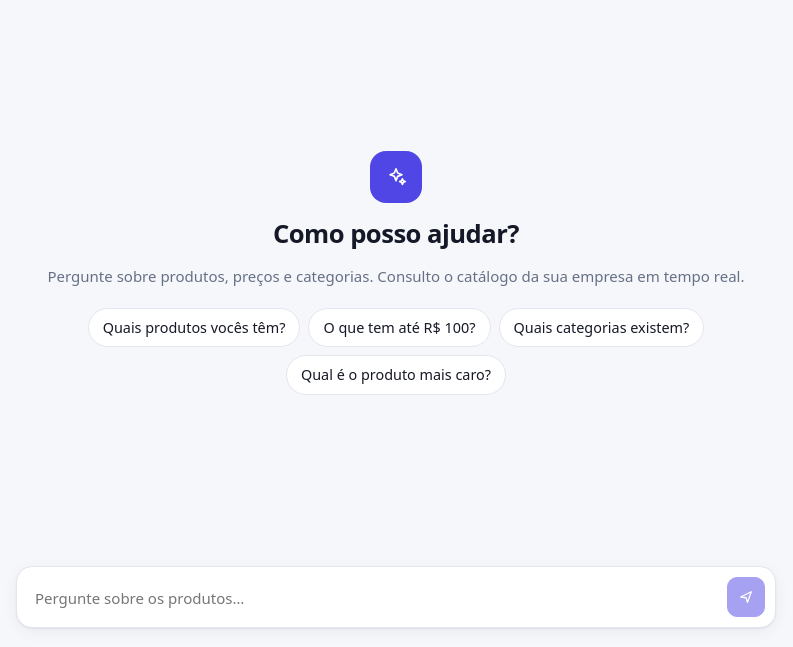
it: ChatPage › shows suggestions first and sends one as a message
The image size is (793, 647).
Step 1. Click the button "Quais produtos vocês têm?" → (194, 328), box [88, 308, 300, 347]
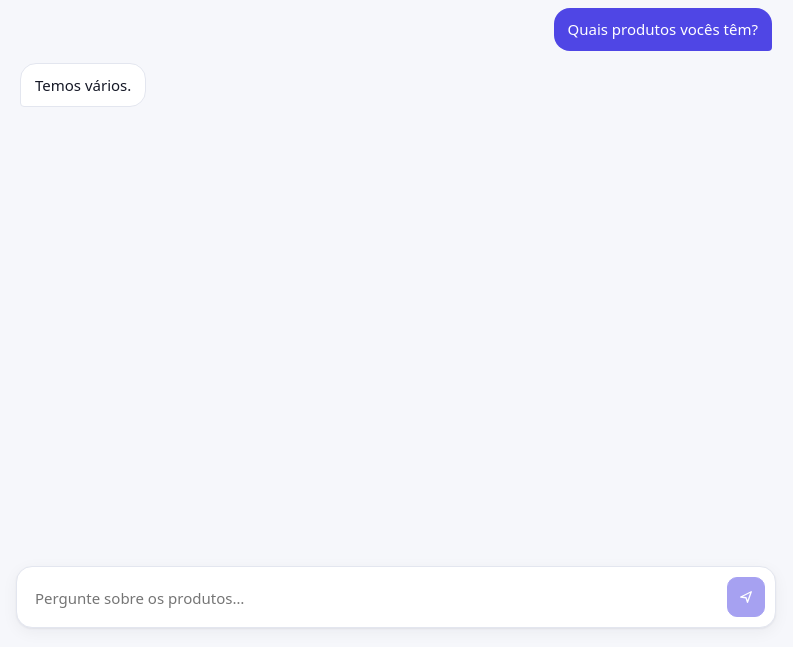
Expected: the list item "Quais produtos vocês têm?" is shown, [554, 8, 772, 50]
Expected: the text "Temos vários." is shown, [35, 74, 131, 96]
